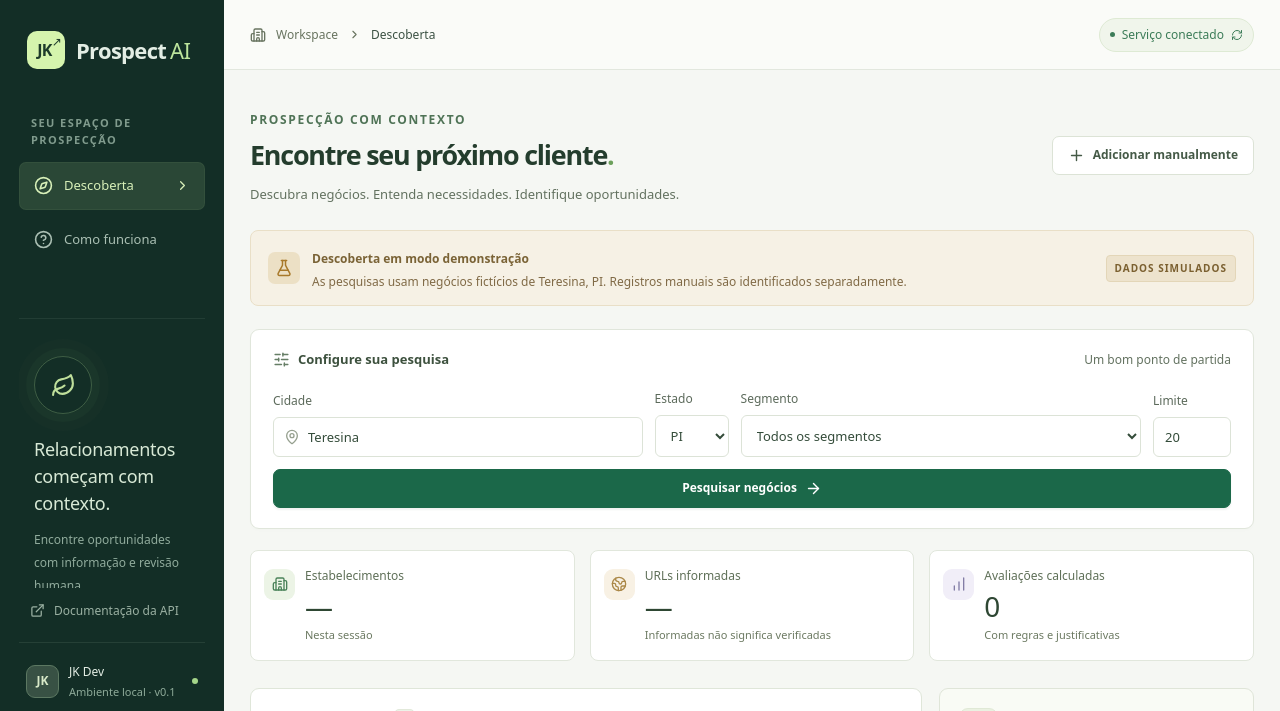
Test: primeira versão do dashboard › mostra falha de serviço sem resultados simulados de fallback
Click the button "Pesquisar negócios".
click(752, 488)  # box [273, 469, 1231, 508]
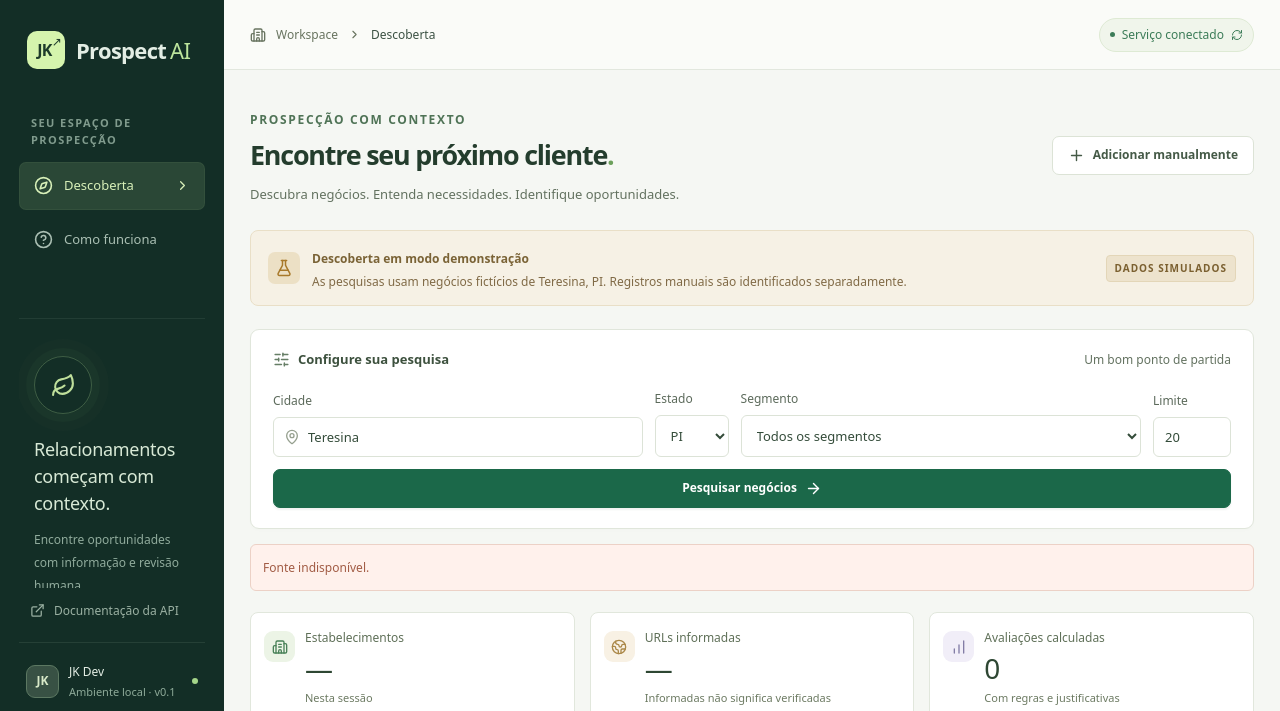
Expected: the message shows "Fonte indisponível", [263, 559, 369, 576]
